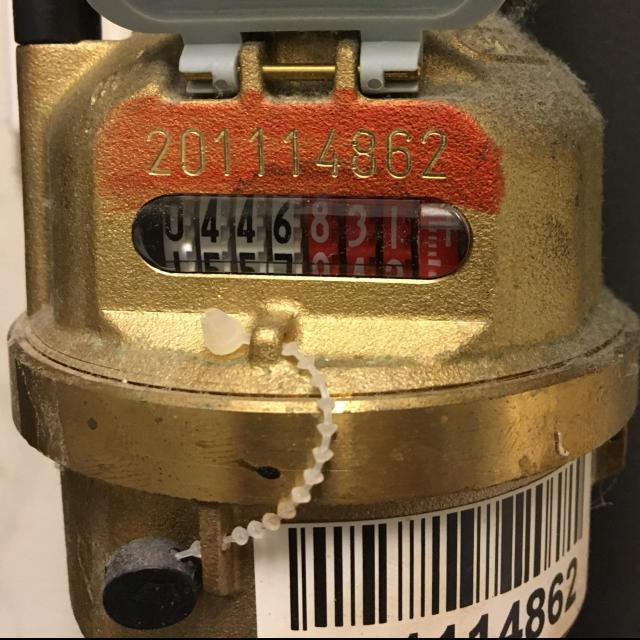gaz_meter: (16, 45, 606, 380)
indication: (151, 194, 457, 276)
